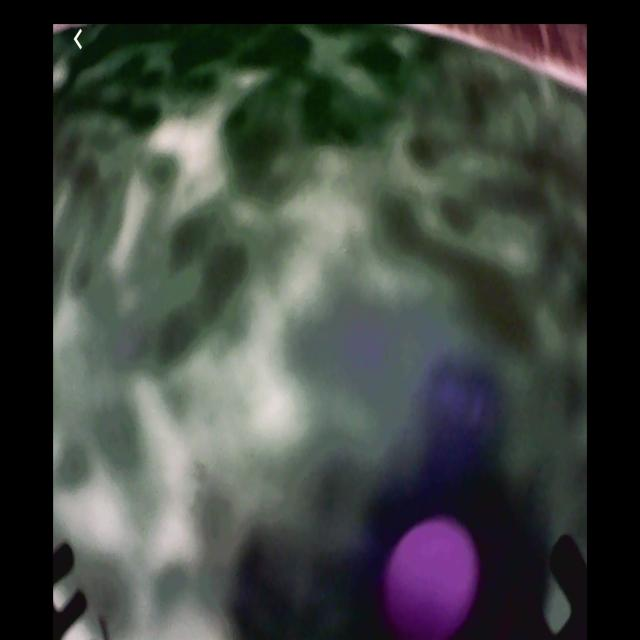ball: (383, 521, 482, 640)
